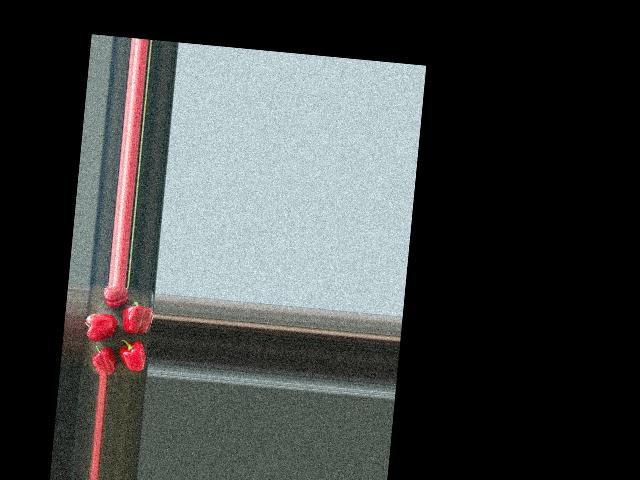bell_pepper: (97, 284, 130, 309)
